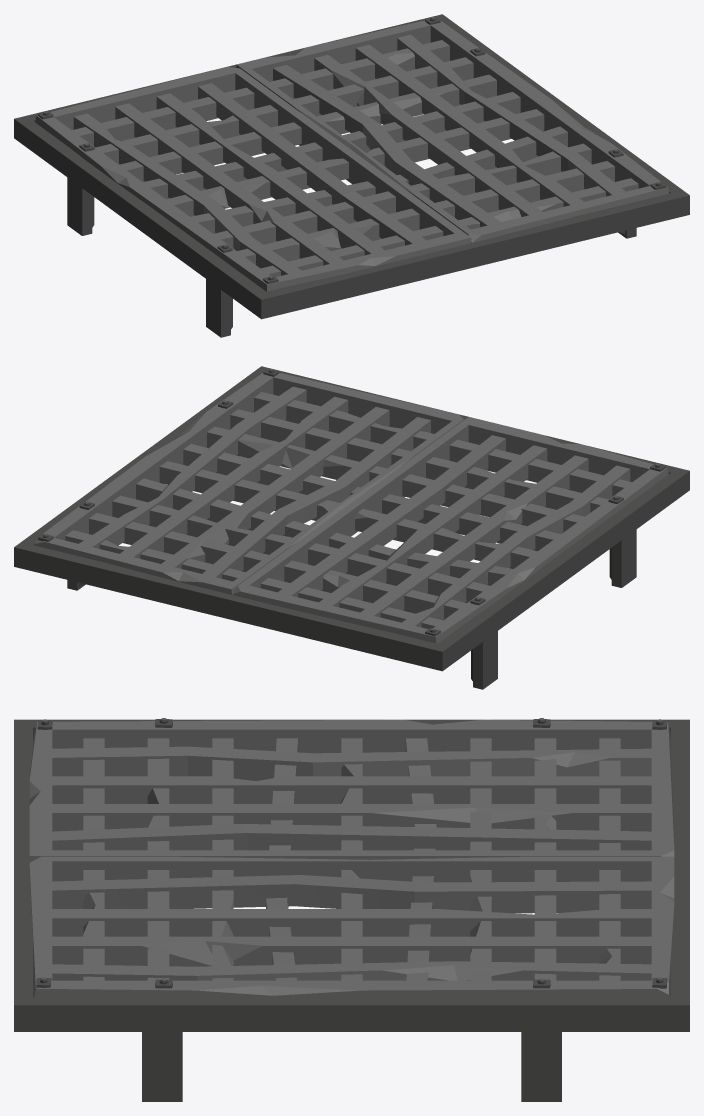
Rendered from SM_Prop_Trap_Pit_01.fbx.
3 renders of one model, top to bottom at view 1: azimuth 30°, elevation 25°; view 2: azimuth 150°, elevation 25°; view 3: azimuth 270°, elevation 25°, orthographic. The views are drawn at different scales.
Parts seen in each view (by area): view 1: SM_Prop_Trap_Pit_Door_R, SM_Prop_Trap_Pit_Door_L, SM_Prop_Trap_Pit_01; view 2: SM_Prop_Trap_Pit_Door_R, SM_Prop_Trap_Pit_Door_L, SM_Prop_Trap_Pit_01; view 3: SM_Prop_Trap_Pit_Door_L, SM_Prop_Trap_Pit_Door_R, SM_Prop_Trap_Pit_01.
Boxes of the visible parts, bbox=[...] form: SM_Prop_Trap_Pit_Door_R: bbox=[35, 67, 471, 291]; SM_Prop_Trap_Pit_Door_L: bbox=[236, 17, 669, 242]; SM_Prop_Trap_Pit_01: bbox=[14, 14, 689, 337]; SM_Prop_Trap_Pit_Door_R: bbox=[232, 417, 668, 643]; SM_Prop_Trap_Pit_Door_L: bbox=[35, 368, 464, 594]; SM_Prop_Trap_Pit_01: bbox=[14, 366, 689, 689]; SM_Prop_Trap_Pit_Door_L: bbox=[29, 856, 674, 997]; SM_Prop_Trap_Pit_Door_R: bbox=[29, 718, 674, 862]; SM_Prop_Trap_Pit_01: bbox=[14, 719, 689, 1101].
Bounding box in the file's own units: 5 × 0.9291 × 5.
